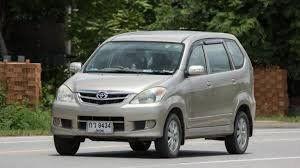mobil: (52, 30, 259, 160)
